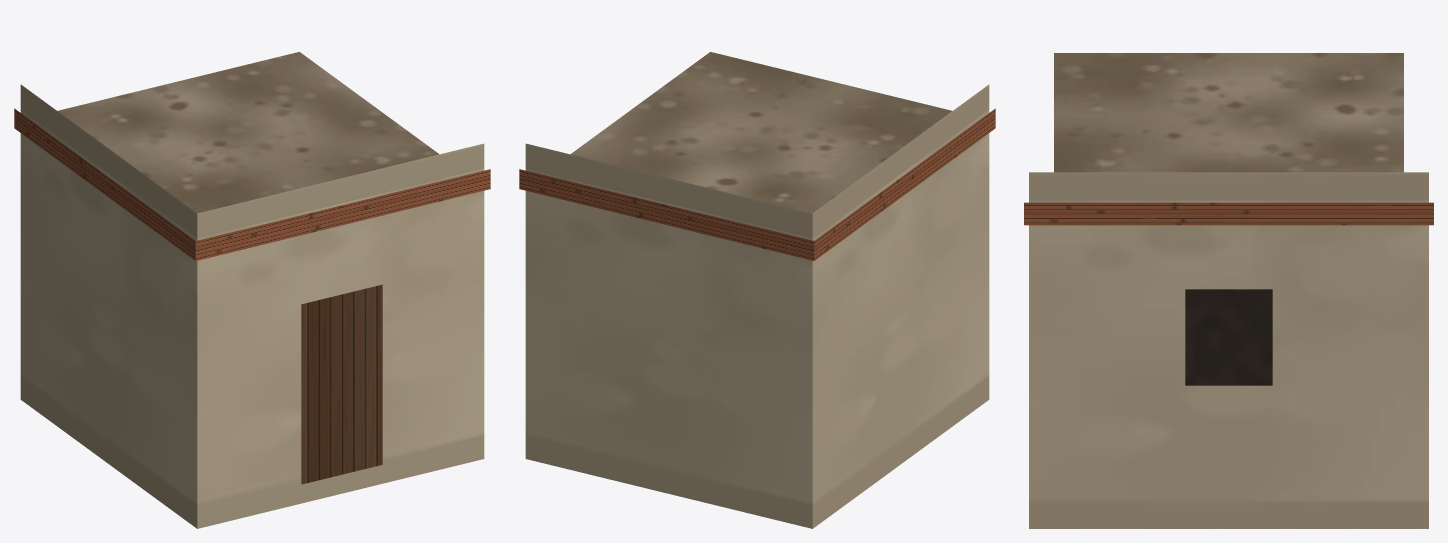
File: ae_sand_stone_small_hut_lod2.glb
The picture shows the model from 3 angles, left to right: view 1: azimuth 30°, elevation 25°; view 2: azimuth 150°, elevation 25°; view 3: azimuth 270°, elevation 25°; orthographic projection. The views are drawn at different scales.
Parts seen in each view (by area): view 1: ae_sand_stone_small_hut_lod2; view 2: ae_sand_stone_small_hut_lod2; view 3: ae_sand_stone_small_hut_lod2.
Boxes of the visible parts, x1,y1,x2,y2 form: ae_sand_stone_small_hut_lod2: (14,52,490,528); ae_sand_stone_small_hut_lod2: (519,52,995,528); ae_sand_stone_small_hut_lod2: (1024,53,1433,528).
Bounding box in the file's own units: 3.08 × 3.15 × 3.28.
Materials: 1 (1 with a texture image).
